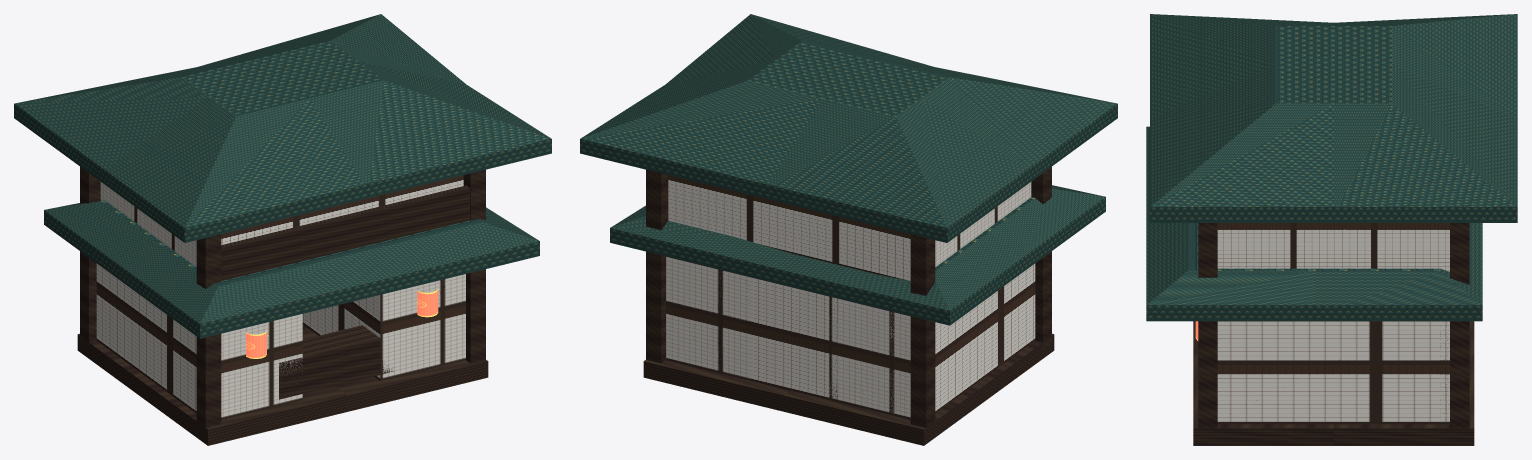
File: asian_shop_house.glb
3 renders of one model, left to right at view 1: azimuth 30°, elevation 25°; view 2: azimuth 150°, elevation 25°; view 3: azimuth 270°, elevation 25°, orthographic. The views are drawn at different scales.
Visible parts, largest first — view 1: ModelRoot; view 2: ModelRoot; view 3: ModelRoot.
Part boxes in pixels (left/top/right/bottom): ModelRoot: left=14, top=14, right=551, bottom=445; ModelRoot: left=580, top=14, right=1117, bottom=445; ModelRoot: left=1146, top=14, right=1517, bottom=445.
Bounding box in the file's own units: 9.43 × 7 × 7.67.
4 materials, 4 textured.
